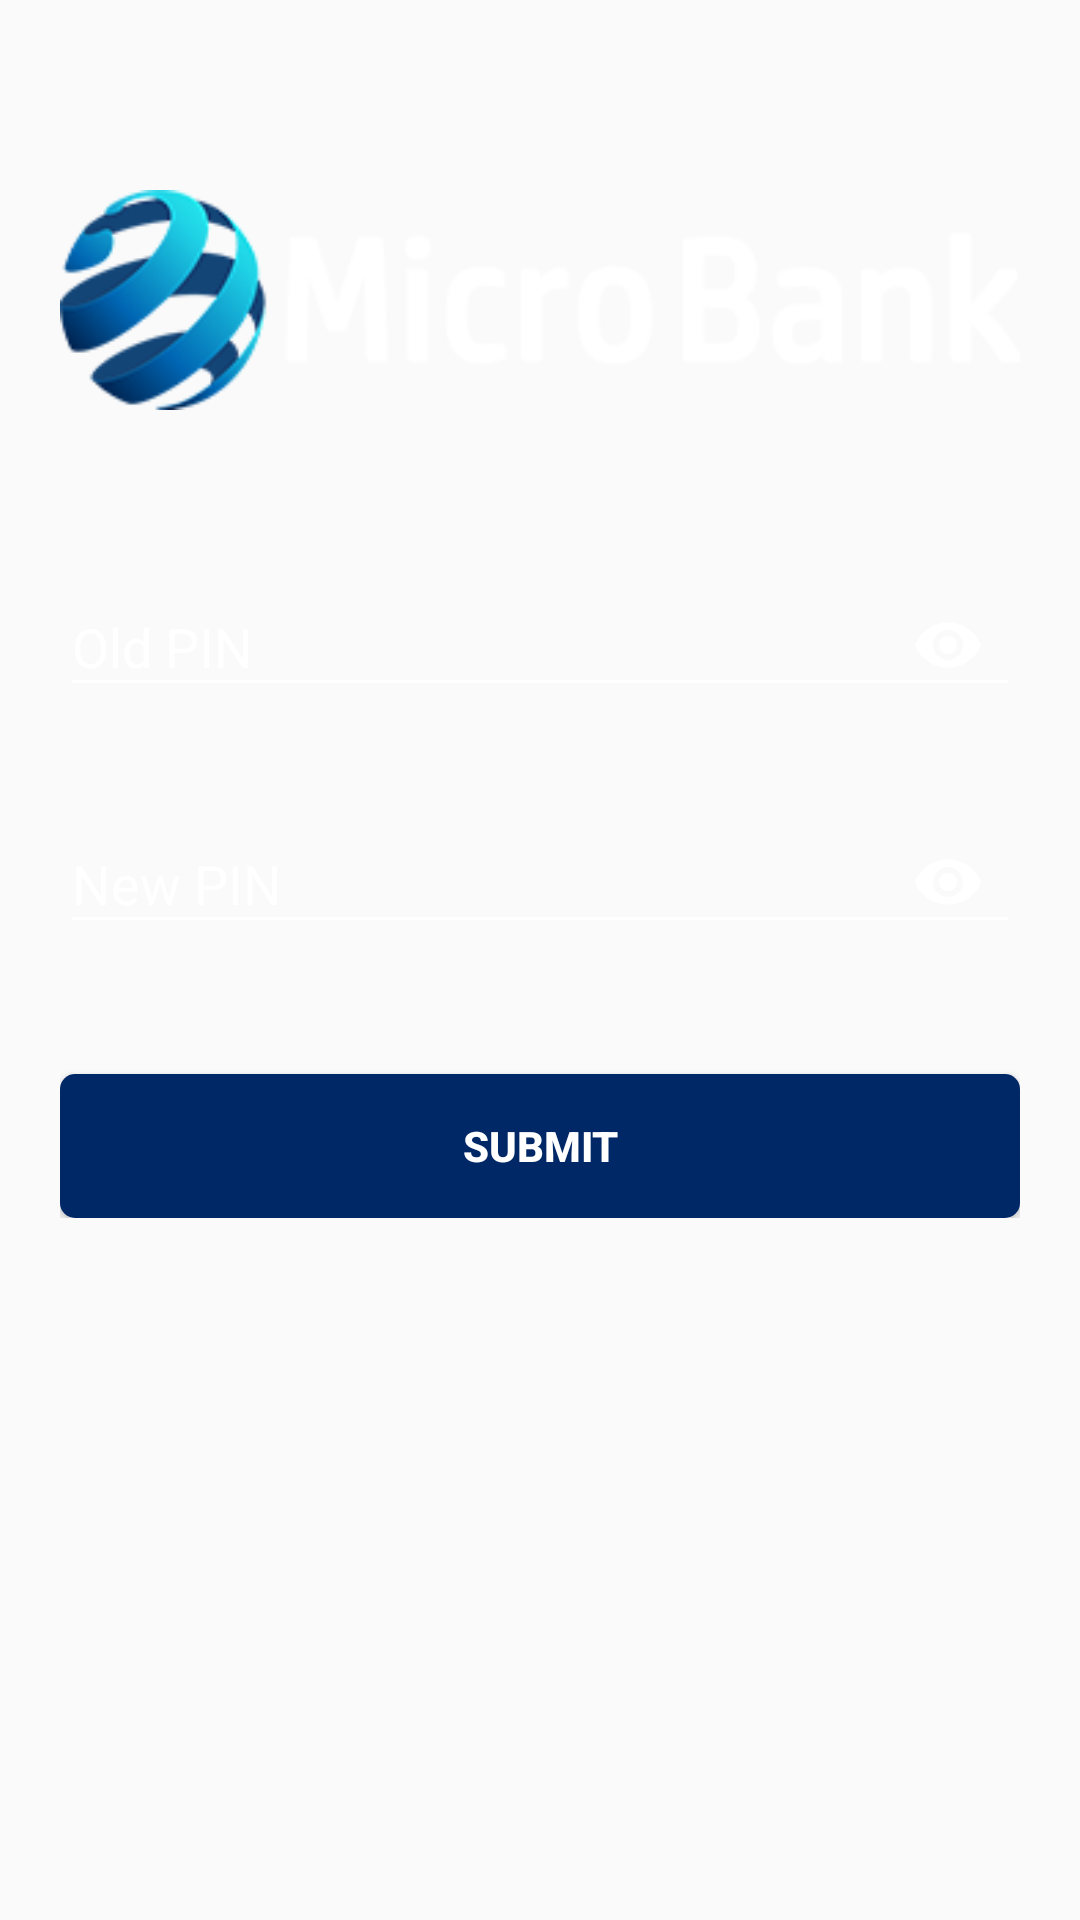

Screen size 1080×1920. Icon name, then its box in pixels as (x1, y1, x2, y2):
titleapp: (60, 190, 267, 410)
